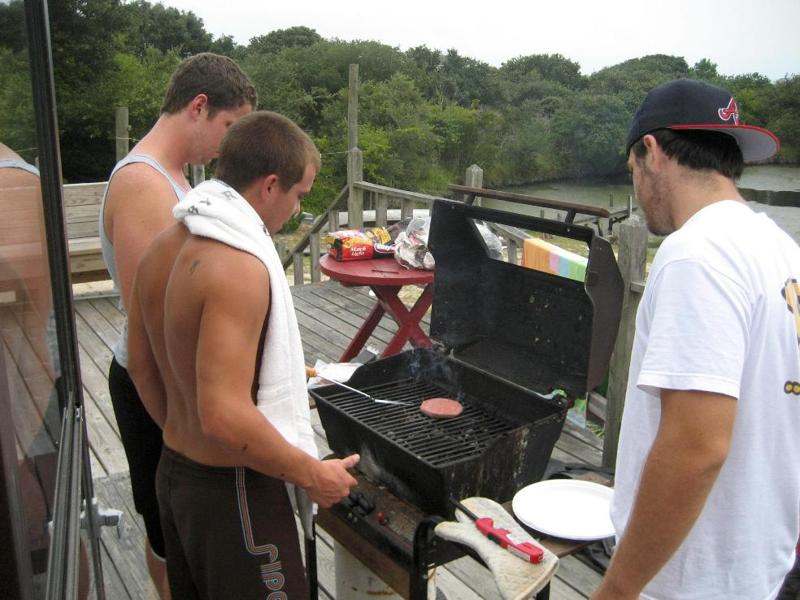person: (128, 114, 361, 599)
